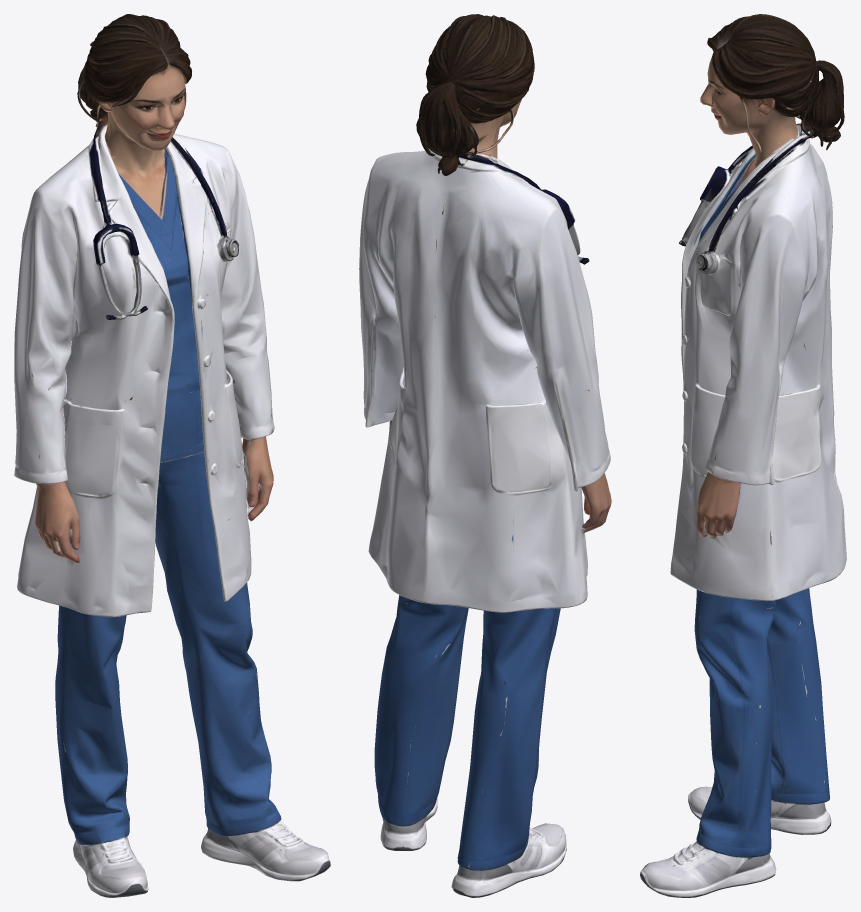
The picture shows the model from 3 angles, left to right: view 1: azimuth 30°, elevation 25°; view 2: azimuth 150°, elevation 25°; view 3: azimuth 270°, elevation 25°; orthographic projection. The views are drawn at different scales.
Visible parts, largest first — view 1: dr2; view 2: dr2; view 3: dr2.
Boxes of the visible parts, x1=… form: dr2: x1=14, y1=14, x2=330, y2=897; dr2: x1=359, y1=14, x2=611, y2=897; dr2: x1=640, y1=14, x2=846, y2=897.
Bounding box in the file's own units: 0.607 × 1.9 × 0.4363.
1 material, 1 textured.
